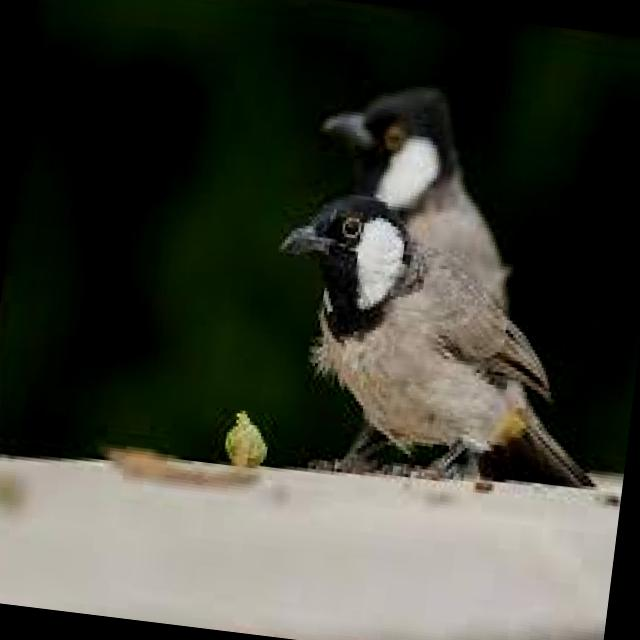bird: (246, 178, 625, 510), (308, 68, 474, 218)
